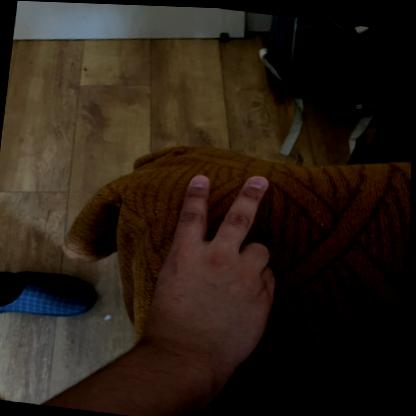V: (141, 152, 297, 361)
